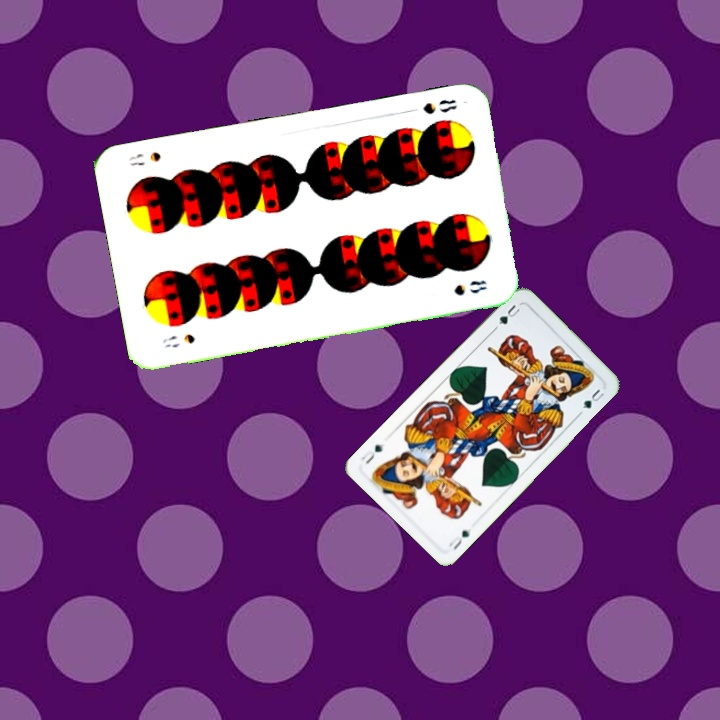GU: (494, 300, 523, 327), (445, 526, 472, 553)
S8: (419, 95, 460, 117), (159, 329, 197, 351)
